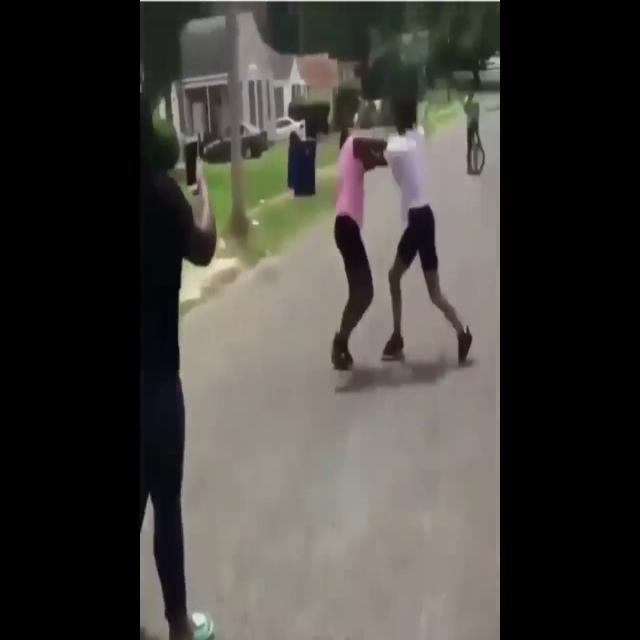Violence: (334, 89, 438, 371)
